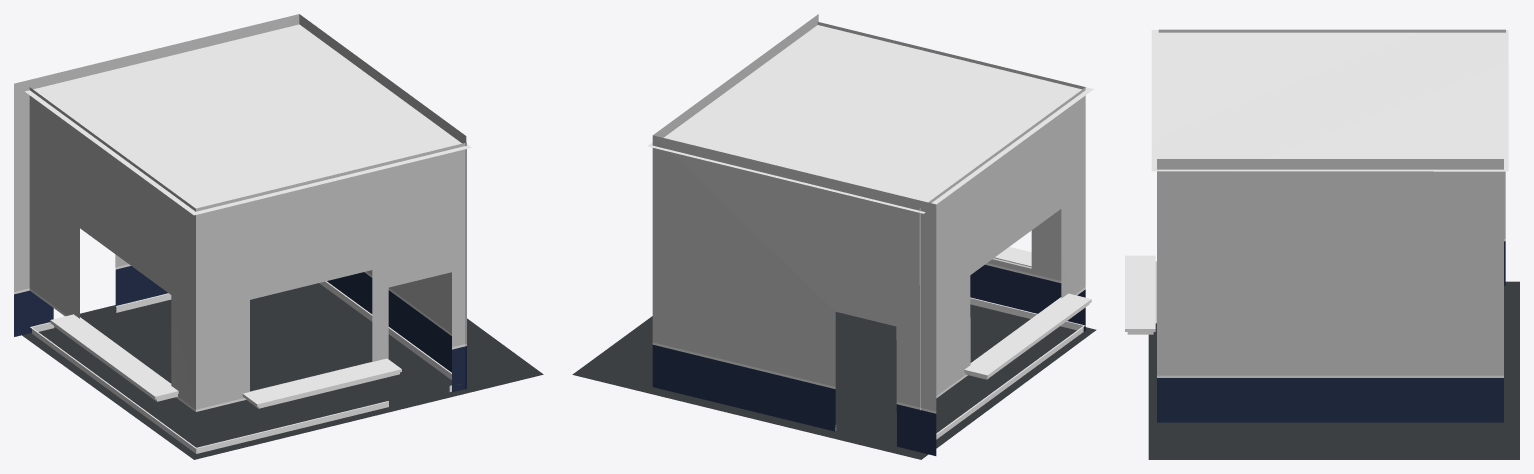
The model's file is SM_H_Building_Tide_PrisonMainInter_03_ATLAS.fbx.
3 views of the same model, side by side, from view 1: azimuth 30°, elevation 25°; view 2: azimuth 150°, elevation 25°; view 3: azimuth 270°, elevation 25° (orthographic). The views are drawn at different scales.
Parts seen in each view (by area): view 1: SM_H_Building_Tide_PrisonMainInter_03_ATLAS; view 2: SM_H_Building_Tide_PrisonMainInter_03_ATLAS; view 3: SM_H_Building_Tide_PrisonMainInter_03_ATLAS.
Boxes of the visible parts, left/top/right/bottom form: SM_H_Building_Tide_PrisonMainInter_03_ATLAS: left=14, top=14, right=543, bottom=459; SM_H_Building_Tide_PrisonMainInter_03_ATLAS: left=572, top=14, right=1096, bottom=459; SM_H_Building_Tide_PrisonMainInter_03_ATLAS: left=1125, top=29, right=1519, bottom=459.
Bounding box in the file's own units: 836 × 749 × 553.
